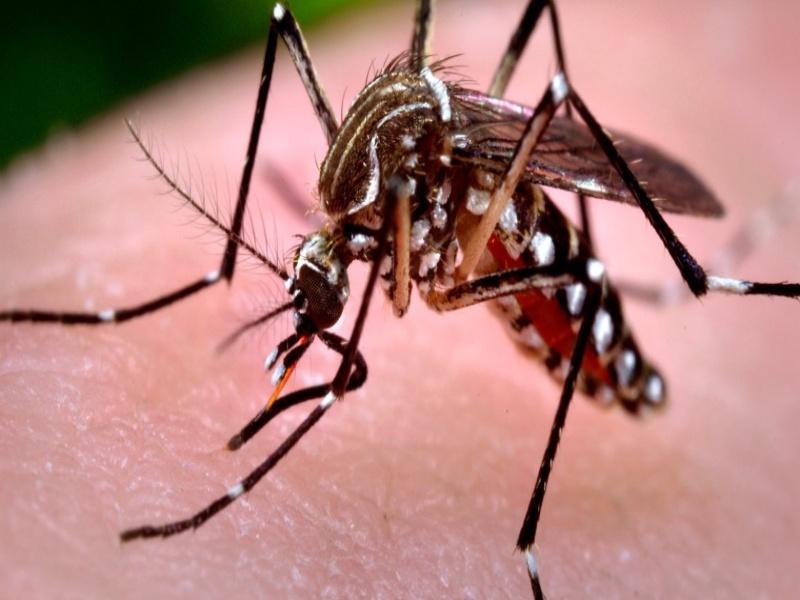dengue_mosquito: (132, 53, 599, 410)
